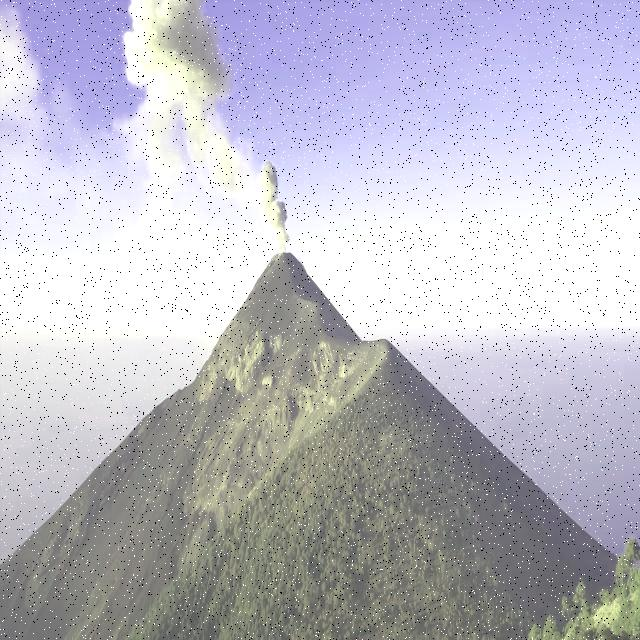Plume: (121, 2, 246, 205), (254, 156, 301, 254)
Summit: (136, 248, 478, 441)
